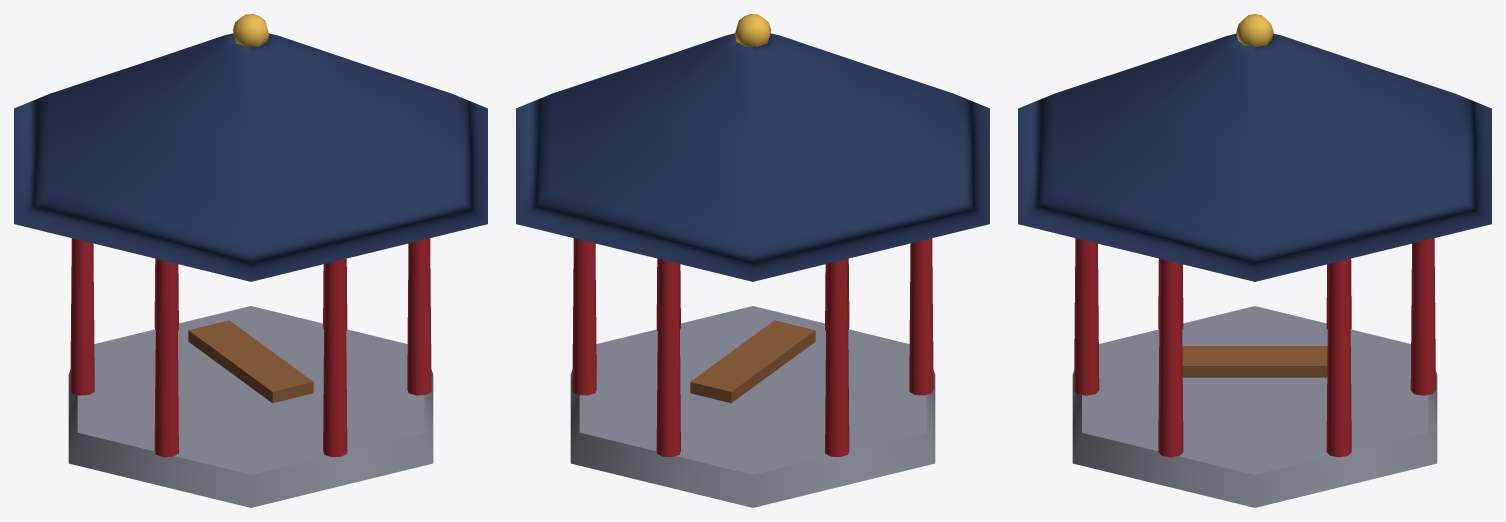
The model's file is gazebo.glb.
3 renders of one model, left to right at view 1: azimuth 30°, elevation 25°; view 2: azimuth 150°, elevation 25°; view 3: azimuth 270°, elevation 25°, orthographic.
Visible parts, largest first — view 1: Roof_24365A, Stone_8A8E9C, Pillar_B3262E, Wood_8A5A34, Gold_E6B84A; view 2: Roof_24365A, Stone_8A8E9C, Pillar_B3262E, Wood_8A5A34, Gold_E6B84A; view 3: Roof_24365A, Stone_8A8E9C, Pillar_B3262E, Wood_8A5A34, Gold_E6B84A.
Part boxes in pixels (bbox=[...]): Roof_24365A: bbox=[14, 33, 487, 281]; Stone_8A8E9C: bbox=[68, 306, 433, 507]; Pillar_B3262E: bbox=[70, 238, 431, 457]; Wood_8A5A34: bbox=[188, 320, 313, 403]; Gold_E6B84A: bbox=[232, 14, 269, 46]; Roof_24365A: bbox=[516, 33, 989, 281]; Stone_8A8E9C: bbox=[570, 306, 935, 507]; Pillar_B3262E: bbox=[572, 238, 933, 457]; Wood_8A5A34: bbox=[690, 320, 815, 403]; Gold_E6B84A: bbox=[734, 14, 771, 46]; Roof_24365A: bbox=[1018, 33, 1491, 281]; Stone_8A8E9C: bbox=[1072, 306, 1437, 507]; Pillar_B3262E: bbox=[1074, 238, 1435, 457]; Wood_8A5A34: bbox=[1182, 346, 1327, 377]; Gold_E6B84A: bbox=[1236, 14, 1273, 47].
Bounding box in the file's own units: 18.57 × 15.11 × 16.08.
